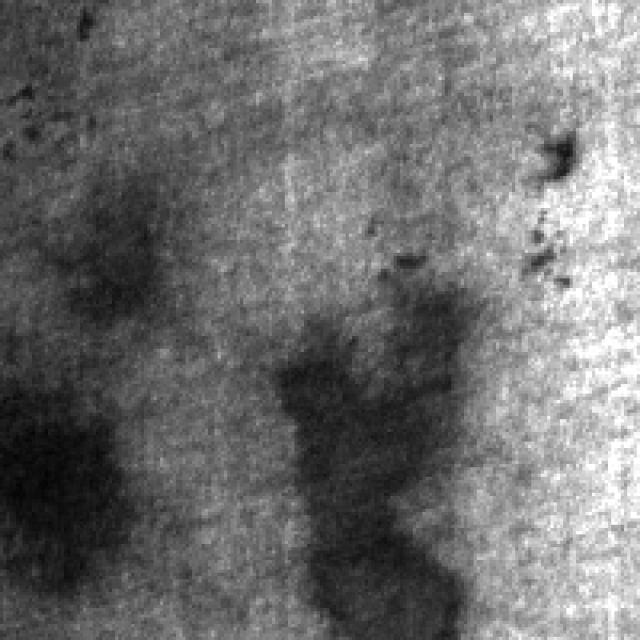patches: (256, 259, 474, 637), (0, 355, 125, 595), (42, 166, 166, 320)
